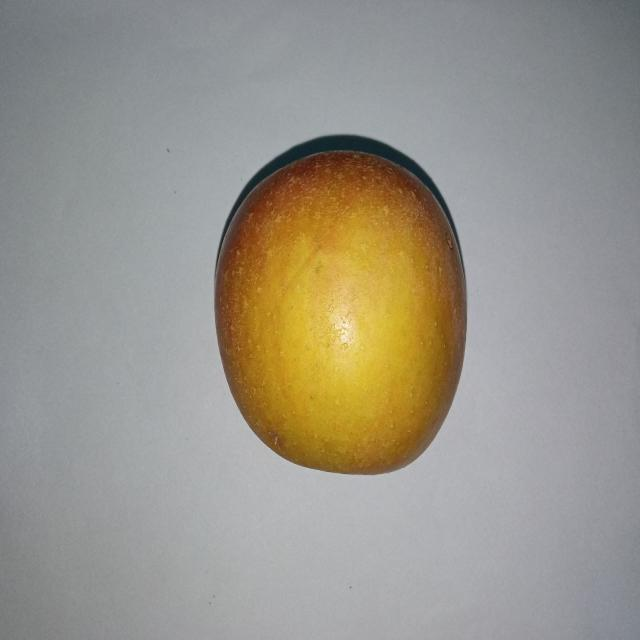fresh_apple: (214, 150, 464, 477)
